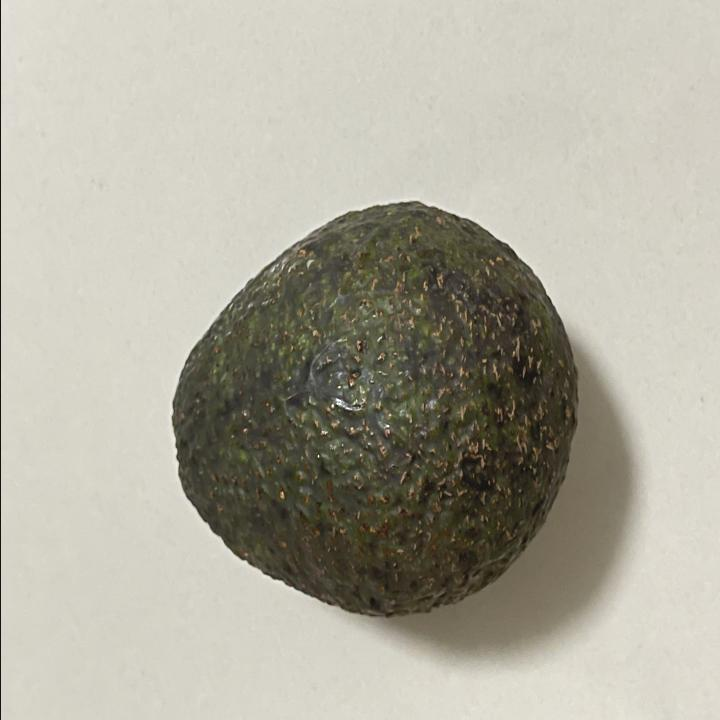Level1: (158, 183, 594, 632)
